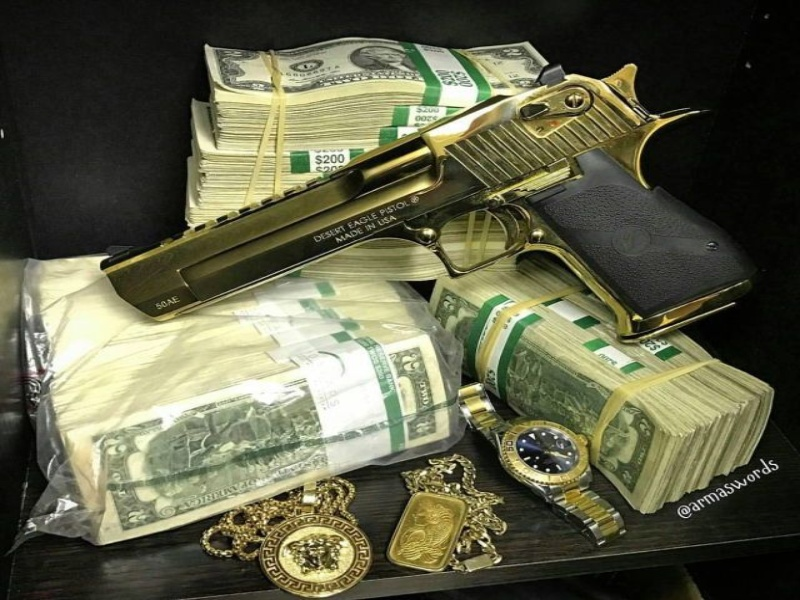cash: (26, 255, 452, 545), (183, 37, 557, 280), (428, 259, 774, 513)
weapon: (101, 61, 755, 345)
